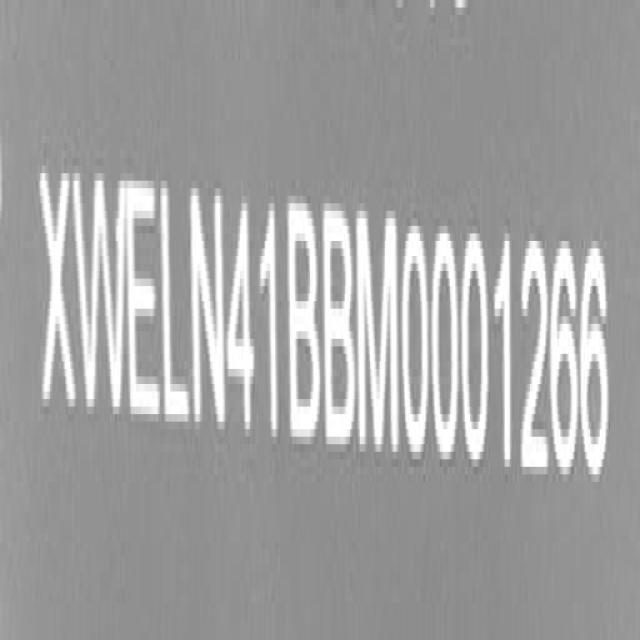0: (460, 237, 490, 471), (431, 220, 459, 460), (401, 218, 428, 454)
1: (258, 195, 280, 444), (495, 220, 515, 482)
2: (520, 242, 552, 480)
4: (225, 195, 255, 444)
6: (578, 237, 610, 480), (549, 234, 579, 472)
B: (320, 192, 358, 458), (288, 206, 322, 444)
E: (124, 159, 161, 432)
L: (159, 176, 191, 432)
M: (355, 200, 400, 452)
N: (188, 170, 227, 438)
W: (74, 159, 125, 432)
X: (39, 162, 78, 424)
